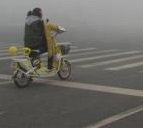person: (20, 7, 56, 74)
